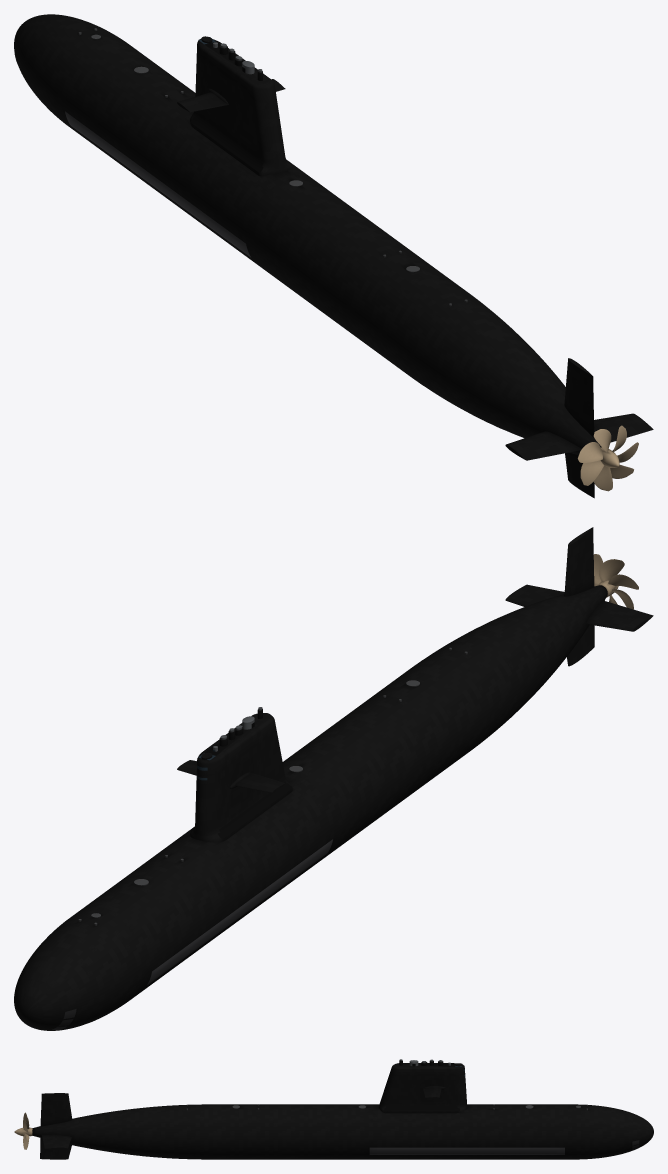
File: sx1-alta.glb
The picture shows the model from 3 angles, top to bottom: view 1: azimuth 30°, elevation 25°; view 2: azimuth 150°, elevation 25°; view 3: azimuth 270°, elevation 25°; orthographic projection. The views are drawn at different scales.
Visible parts, largest first — view 1: SX1_Casco, SX1_Vela, SX1_Helice_Malha, SX1_Casco_SonarFlanco, SX1_LemePopa_Sup_Malha, SX1_LemePopa_BB_Malha, SX1_LemePopa_BE_Malha; view 2: SX1_Casco, SX1_Vela, SX1_Casco_SonarFlanco, SX1_LemePopa_Sup_Malha, SX1_Helice_Malha, SX1_LemePopa_BB_Malha, SX1_LemePopa_BE_Malha; view 3: SX1_Casco, SX1_Vela, SX1_Casco_SonarFlanco, SX1_LemePopa_Sup_Malha, SX1_LemePopa_BE_Malha, SX1_LemePopa_Inf_Malha, SX1_Helice_Malha, SX1_LemeVela_BE_Malha.
Boxes of the visible parts, left/top/right/bottom form: SX1_Casco: left=14, top=14, right=601, bottom=455; SX1_Vela: left=190, top=39, right=292, bottom=176; SX1_Helice_Malha: left=577, top=425, right=638, bottom=491; SX1_Casco_SonarFlanco: left=65, top=111, right=250, bottom=257; SX1_LemePopa_Sup_Malha: left=564, top=358, right=594, bottom=437; SX1_LemePopa_BB_Malha: left=505, top=431, right=581, bottom=460; SX1_LemePopa_BE_Malha: left=594, top=413, right=653, bottom=442; SX1_Casco: left=14, top=585, right=607, bottom=1030; SX1_Vela: left=190, top=713, right=292, bottom=842; SX1_Casco_SonarFlanco: left=147, top=839, right=332, bottom=985; SX1_LemePopa_Sup_Malha: left=564, top=527, right=594, bottom=596; SX1_Helice_Malha: left=593, top=554, right=638, bottom=609; SX1_LemePopa_BB_Malha: left=586, top=600, right=653, bottom=631; SX1_LemePopa_BE_Malha: left=505, top=584, right=564, bottom=606; SX1_Casco: left=32, top=1104, right=653, bottom=1159; SX1_Vela: left=378, top=1063, right=467, bottom=1113; SX1_Casco_SonarFlanco: left=369, top=1147, right=564, bottom=1154; SX1_LemePopa_Sup_Malha: left=40, top=1093, right=72, bottom=1126; SX1_LemePopa_BE_Malha: left=42, top=1134, right=71, bottom=1149; SX1_LemePopa_Inf_Malha: left=40, top=1138, right=71, bottom=1159; SX1_Helice_Malha: left=14, top=1112, right=32, bottom=1149; SX1_LemeVela_BE_Malha: left=423, top=1087, right=441, bottom=1098.
Bounding box in the file's own units: 8.92 × 12.33 × 72.
11 materials, 2 textured.
